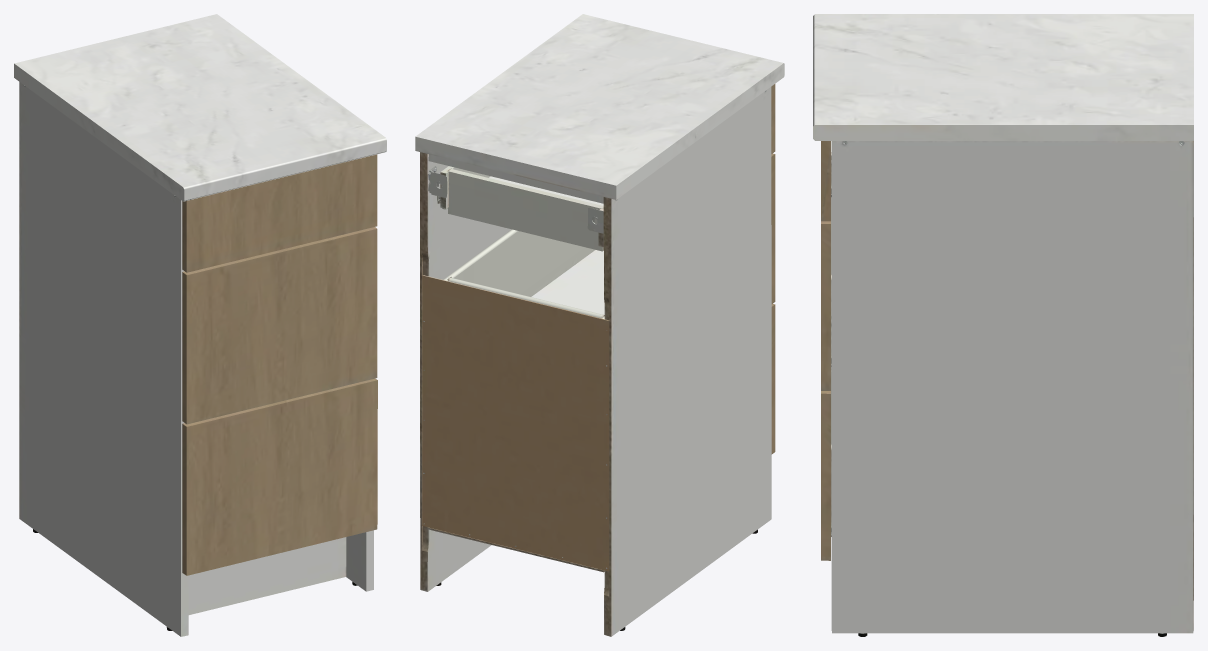
The model's file is knoxhult-modulo-almacenaje-cocina-efecto-roble.glb.
3 renders of one model, left to right at view 1: azimuth 30°, elevation 25°; view 2: azimuth 150°, elevation 25°; view 3: azimuth 270°, elevation 25°, orthographic. The views are drawn at different scales.
Parts seen in each view (by area): view 1: ASY_ART_60603979_S01_NV01; view 2: ASY_ART_60603979_S01_NV01; view 3: ASY_ART_60603979_S01_NV01.
Part boxes in pixels (left/top/right/bottom): ASY_ART_60603979_S01_NV01: left=14, top=14, right=386, bottom=636; ASY_ART_60603979_S01_NV01: left=415, top=14, right=784, bottom=636; ASY_ART_60603979_S01_NV01: left=813, top=14, right=1193, bottom=636.
Bounding box in the file's own units: 0.4202 × 0.9102 × 0.6101.
2 materials, 1 textured.
